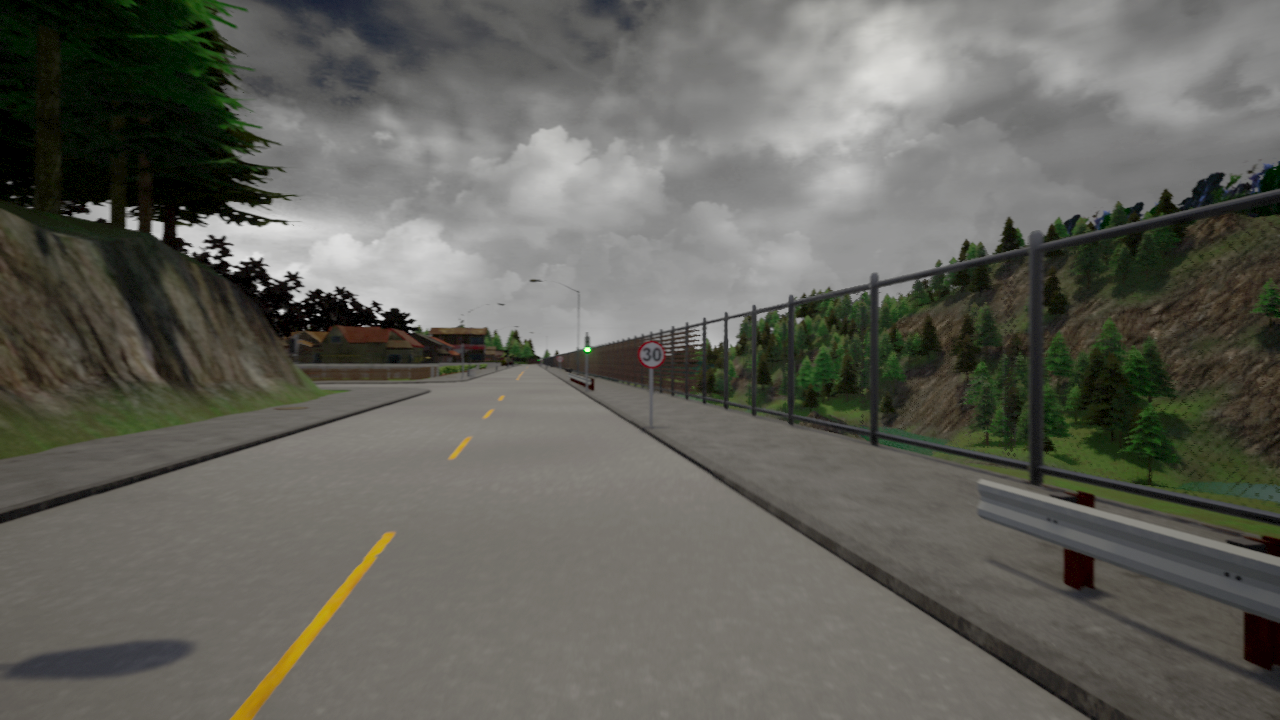green: (584, 335, 591, 352)
